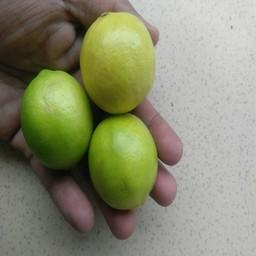Good_lime: (78, 10, 158, 114), (16, 68, 92, 172), (88, 112, 158, 210)
